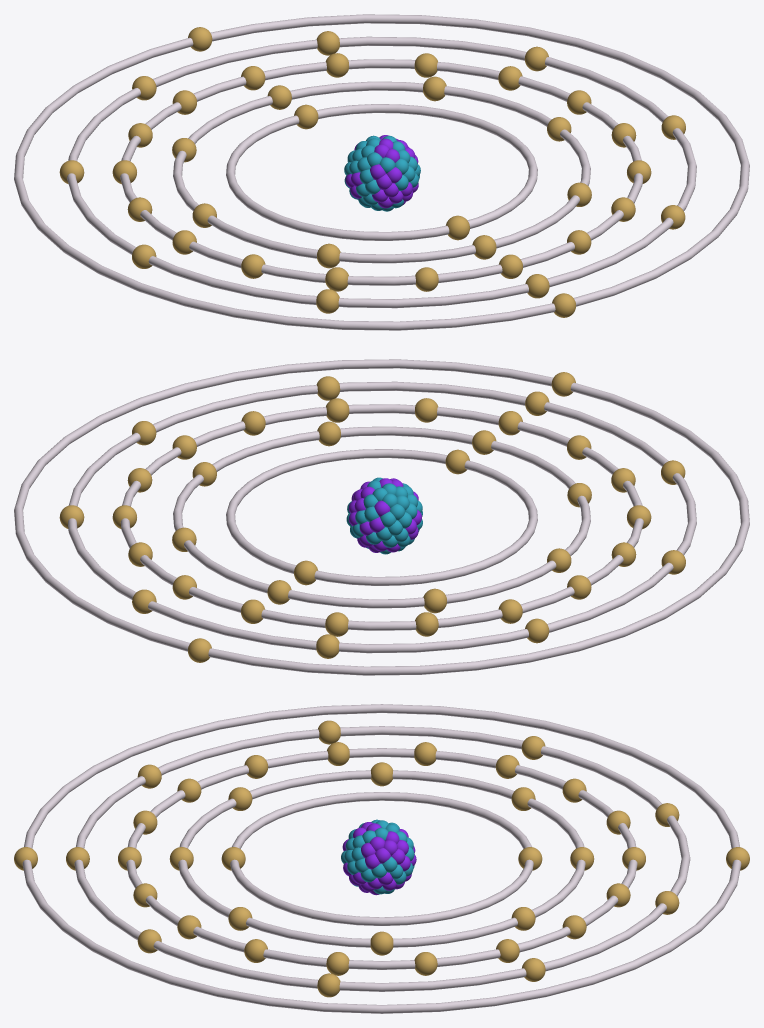
The model's file is itrio.glb.
The picture shows the model from 3 angles, top to bottom: view 1: azimuth 30°, elevation 25°; view 2: azimuth 150°, elevation 25°; view 3: azimuth 270°, elevation 25°; orthographic projection. The views are drawn at different scales.
Visible parts, largest first — view 1: Orbita_5, Orbita_4, Orbita_3, Orbita_2, Orbita_1, Nucleo_Completo; view 2: Orbita_5, Orbita_4, Orbita_3, Orbita_2, Orbita_1, Nucleo_Completo; view 3: Orbita_5, Orbita_4, Orbita_3, Orbita_2, Orbita_1, Nucleo_Completo.
Part boxes in pixels (x1,y1,x2,y2): Orbita_5: (14, 14, 749, 330); Orbita_4: (67, 36, 696, 308); Orbita_3: (120, 59, 643, 285); Orbita_2: (173, 81, 590, 263); Orbita_1: (226, 104, 537, 240); Nucleo_Completo: (344, 135, 420, 211); Orbita_5: (14, 359, 749, 675); Orbita_4: (68, 381, 696, 653); Orbita_3: (120, 404, 643, 630); Orbita_2: (173, 426, 590, 608); Orbita_1: (226, 449, 537, 585); Nucleo_Completo: (346, 477, 422, 554); Orbita_5: (22, 704, 741, 1013); Orbita_4: (74, 726, 690, 991); Orbita_3: (126, 748, 637, 969); Orbita_2: (178, 770, 585, 947); Orbita_1: (230, 792, 533, 925); Nucleo_Completo: (341, 819, 416, 895).
Size of the model in its own units: 4.86 by 0.5075 by 4.96.
